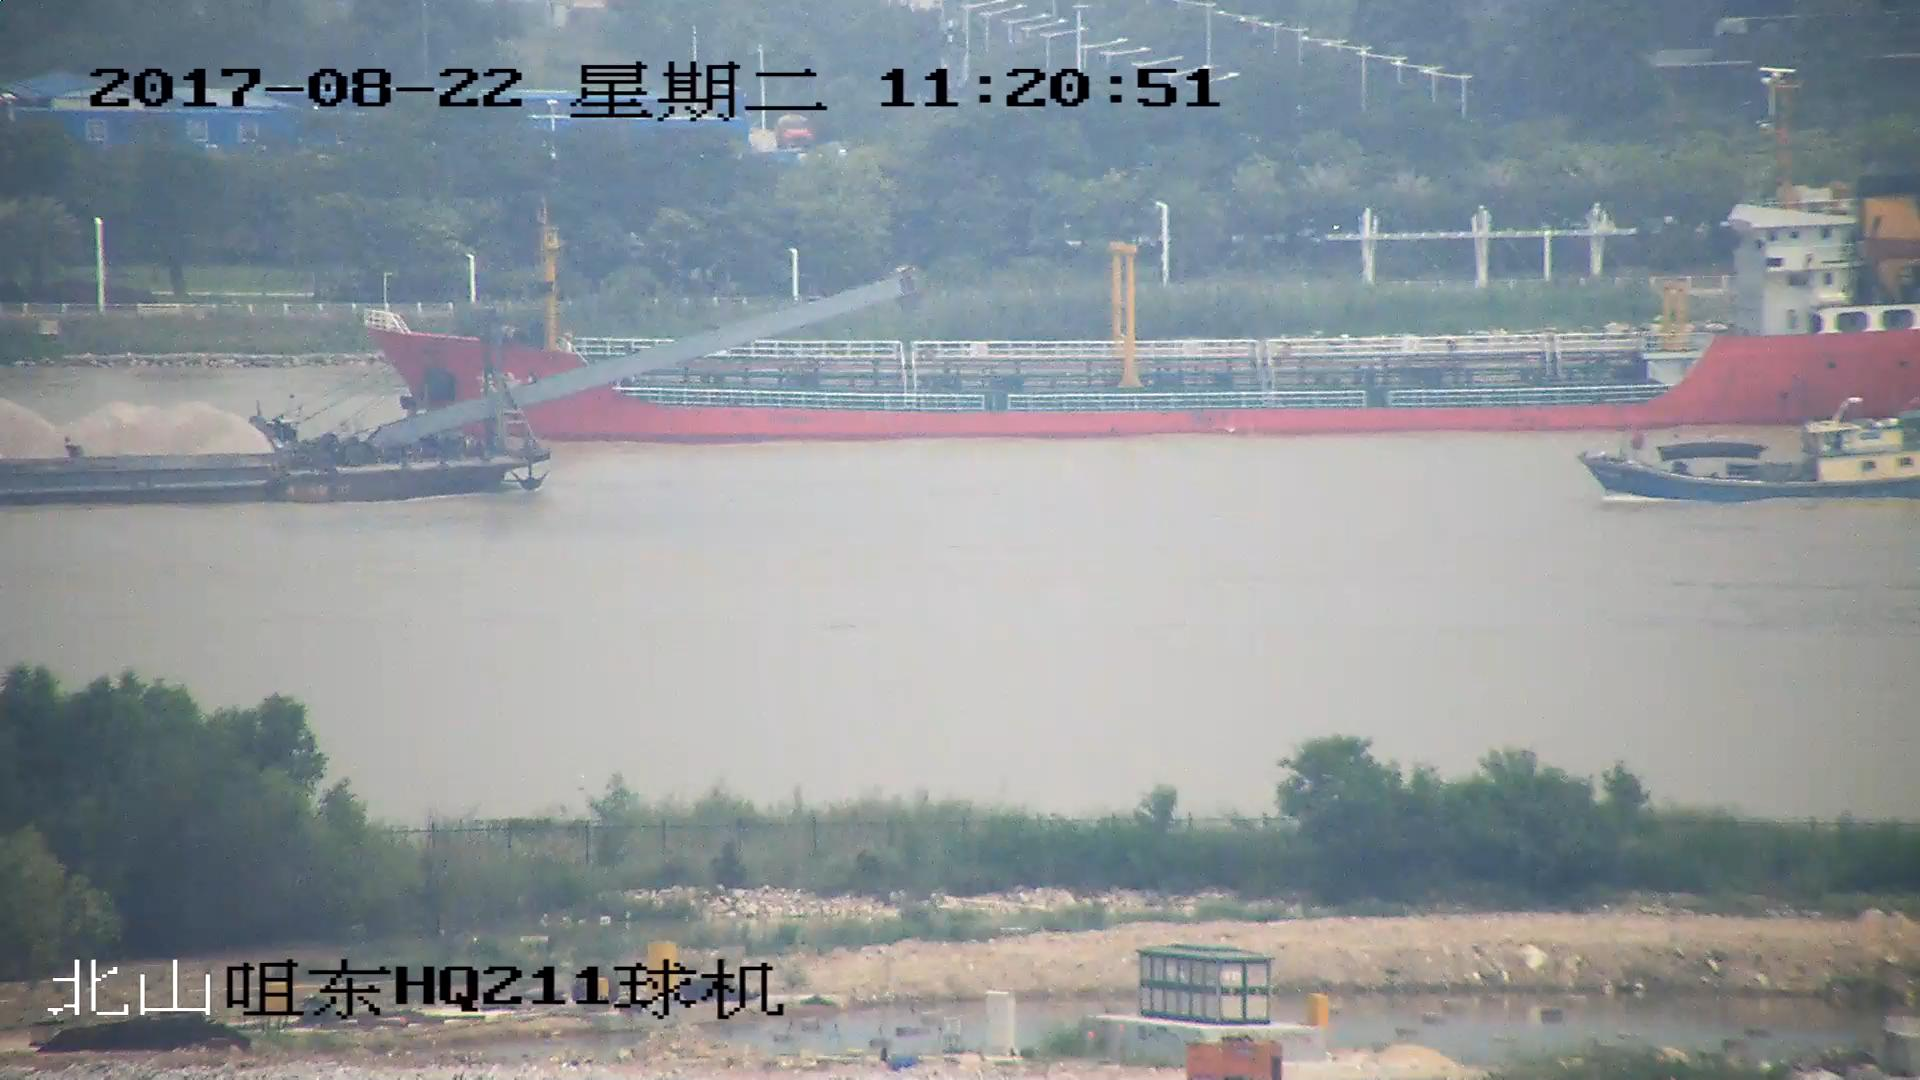fishing boat: (1580, 397, 1920, 500)
general cargo ship: (357, 108, 1920, 445)
ore carrier: (1, 273, 914, 508)
